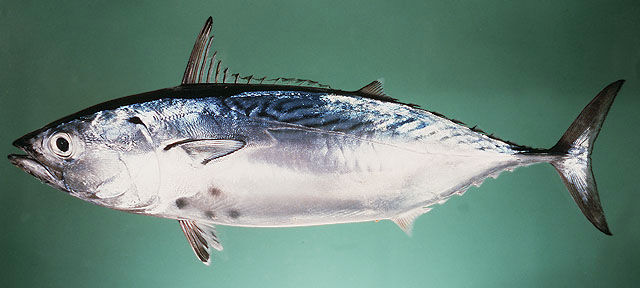fish: (6, 15, 627, 268)
